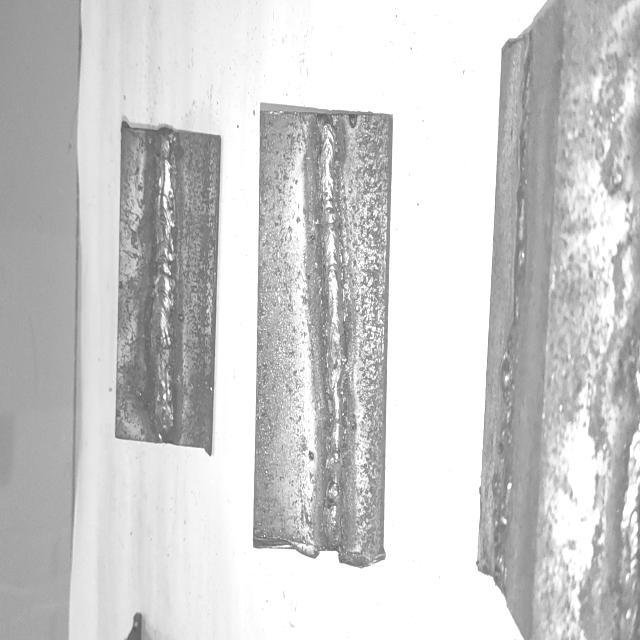Welding Line: (316, 117, 346, 544), (153, 132, 180, 434)
Workpiece: (472, 0, 640, 640), (252, 102, 394, 569), (113, 110, 224, 460)
